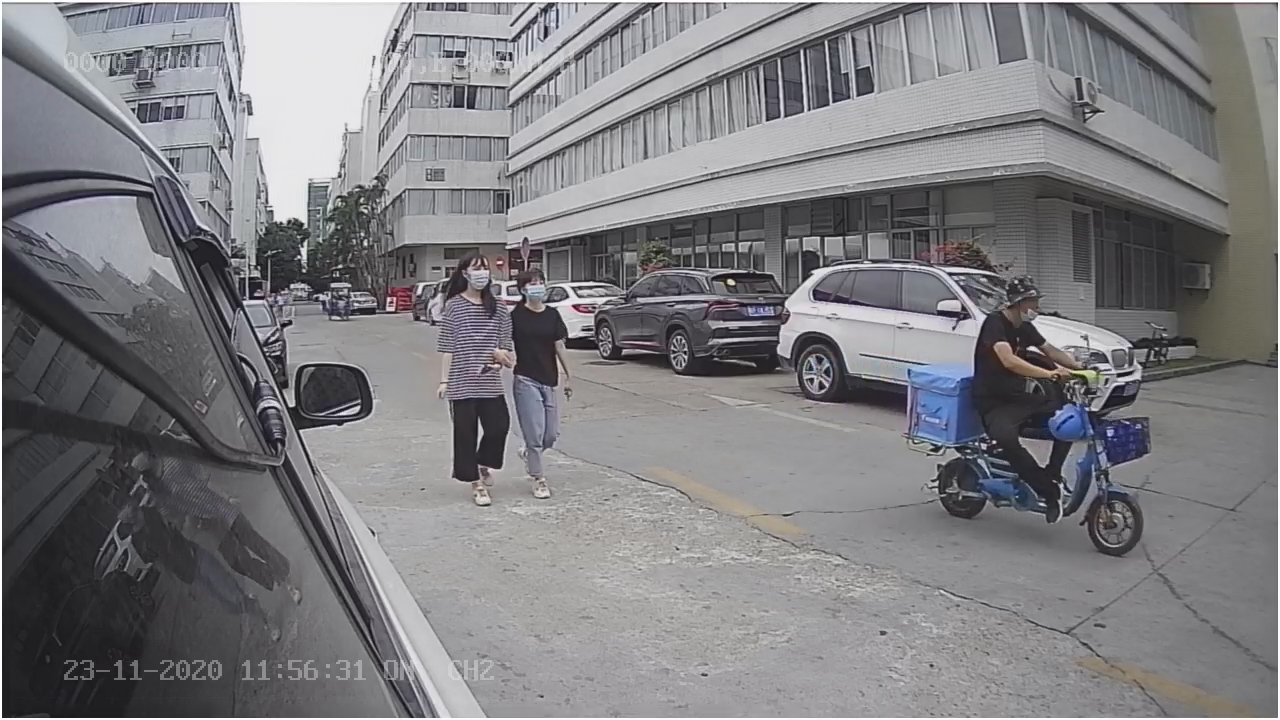person: (426, 246, 512, 515), (510, 242, 579, 507), (968, 271, 1054, 410)
